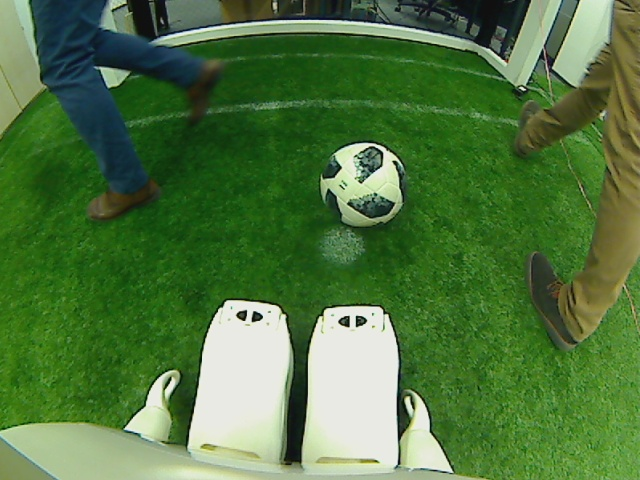ball: (320, 140, 406, 228)
